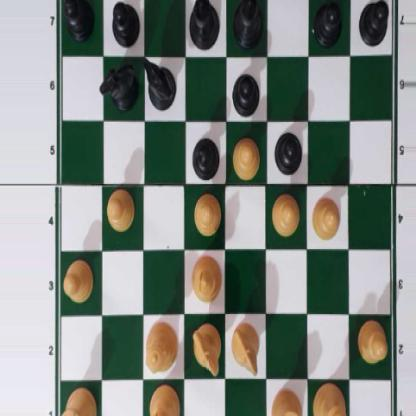black-bishop: (232, 0, 265, 52), (190, 0, 220, 49)
black-knight: (99, 62, 137, 109), (142, 57, 176, 107)
black-pawn: (358, 0, 388, 48), (231, 68, 261, 115), (192, 132, 220, 179), (315, 0, 343, 46), (274, 129, 302, 175), (64, 0, 95, 40), (111, 0, 137, 46)
white-bishop: (192, 253, 222, 302), (148, 383, 179, 416)
white-king: (312, 382, 350, 416)
white-knight: (231, 321, 261, 375), (192, 323, 222, 374)
white-pawn: (312, 191, 341, 241), (356, 319, 388, 364), (62, 257, 94, 302), (231, 134, 261, 178), (106, 187, 135, 231), (272, 191, 299, 236), (193, 191, 220, 236)
white-queen: (146, 317, 177, 376)
white-rook: (58, 386, 97, 416), (271, 387, 304, 416)
